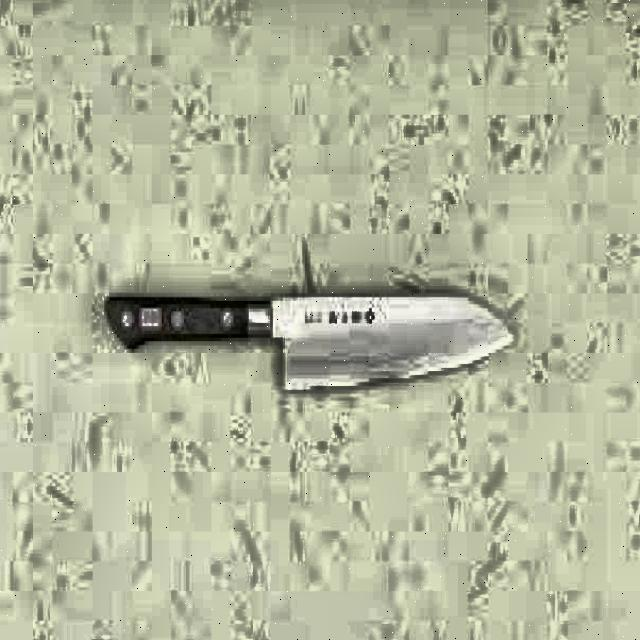knife: (103, 284, 518, 404)
